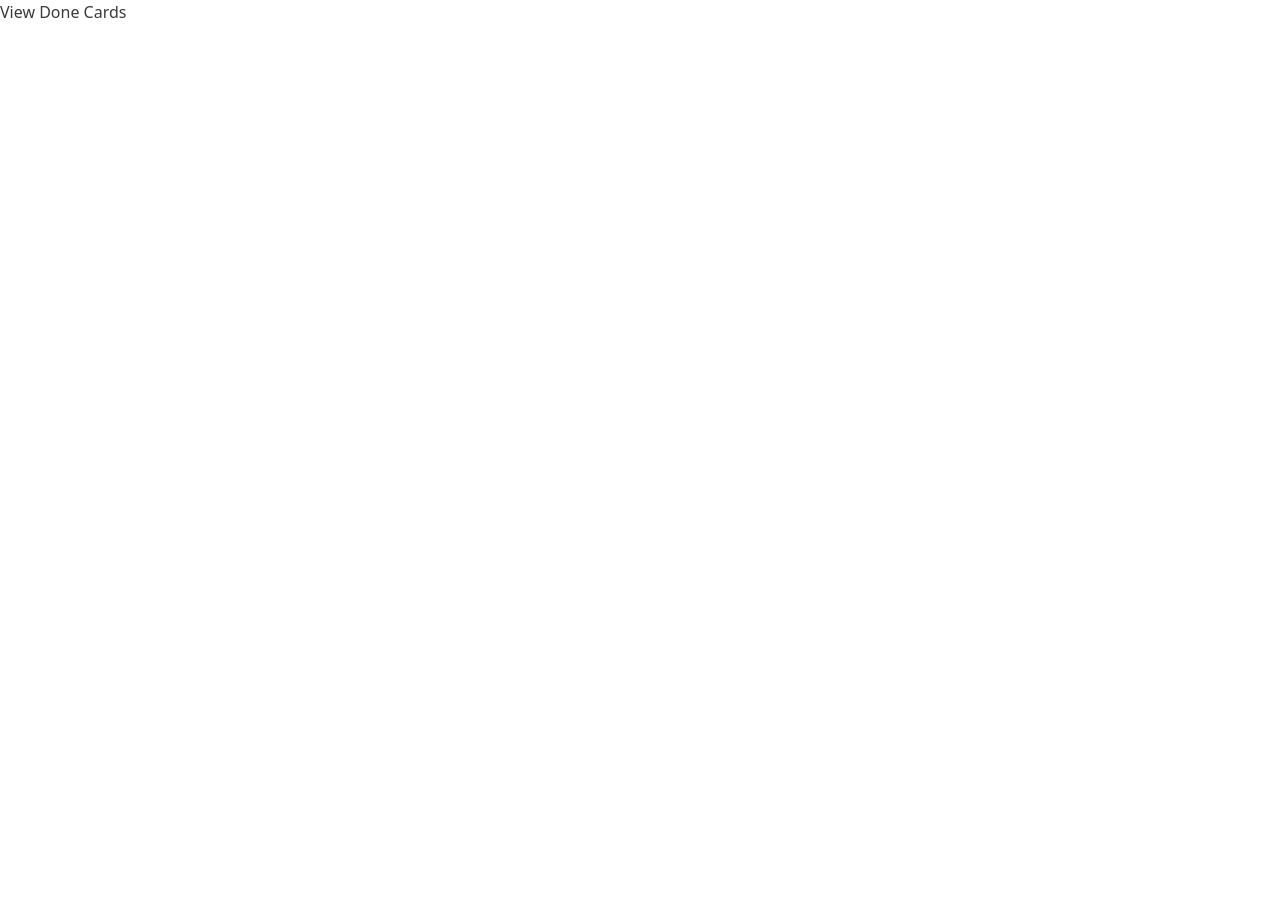
Test case: ViewStatusDialog › opens dialog when trigger is clicked
What coordinates should you click on to do the following:
click the button "View Done Cards"
I would click on:
 (63, 12)
Its box is [0,0,126,24].
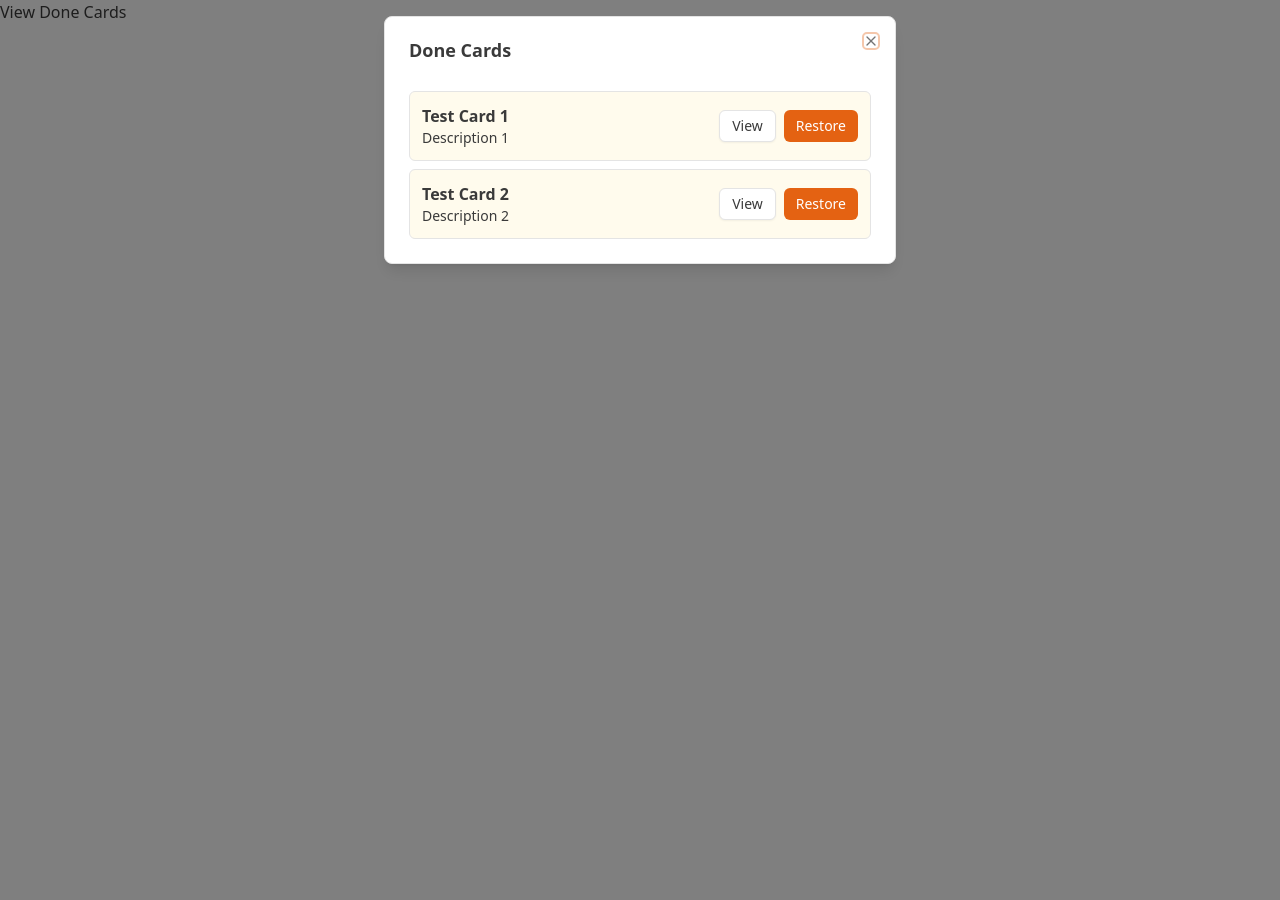
Expected: the dialog is shown, [384,16,896,264]
Expected: the heading "Done Cards" is shown, [409,38,511,62]
